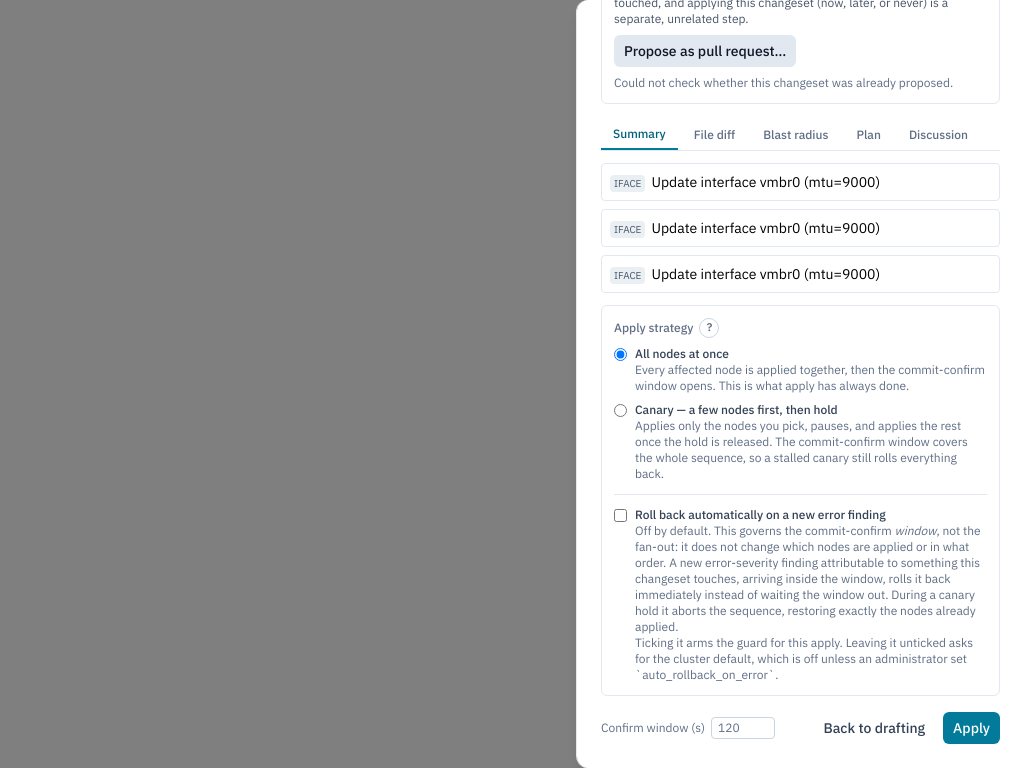
Test: ReviewApplyScreen — apply strategy (T-3005) › blocks Apply when the hold is not shorter than the confirm window
(page scrolled)
Click the radio button labelled "Canary".
click(620, 410)  # box [614, 404, 627, 417]
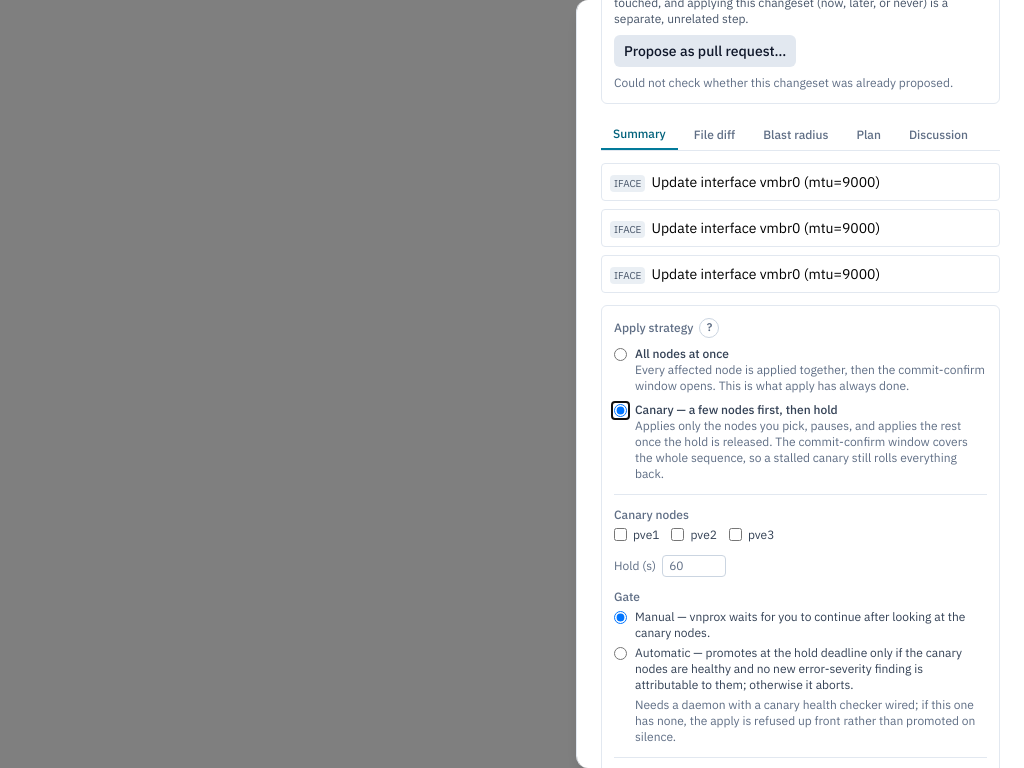
Click the checkbox labelled "pve1".
click(620, 535)  # box [614, 528, 627, 542]
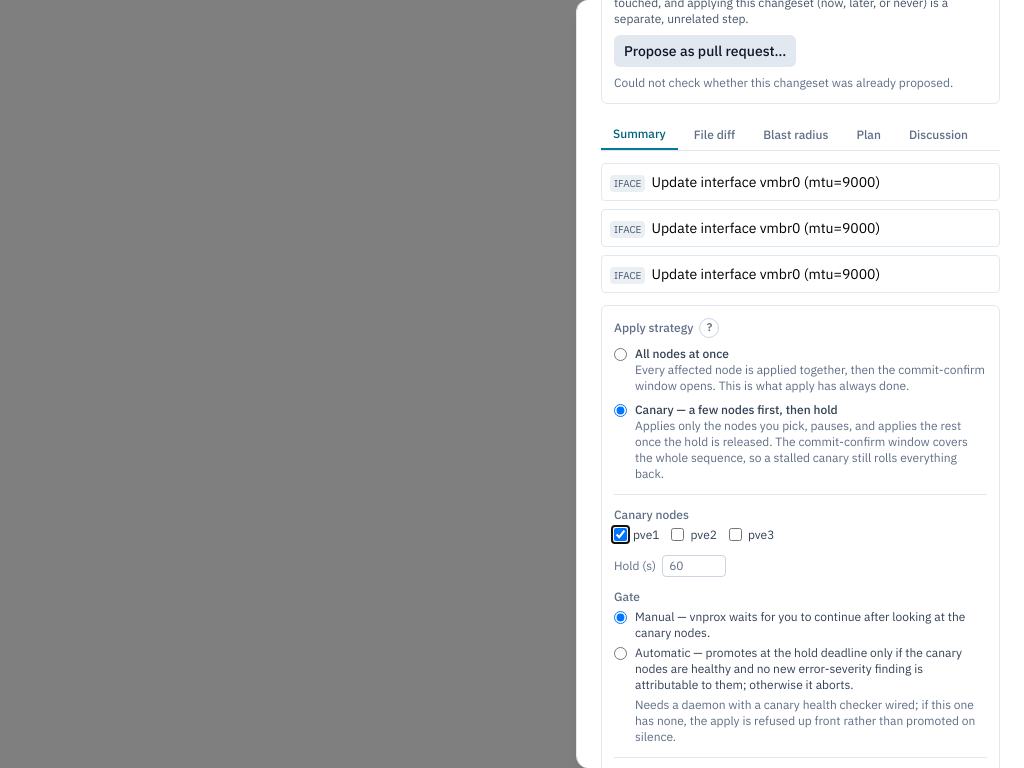
Replace the text in the number field named "canary hold seconds" with "120" at (694, 566), box [662, 555, 726, 577]
(page scrolled)
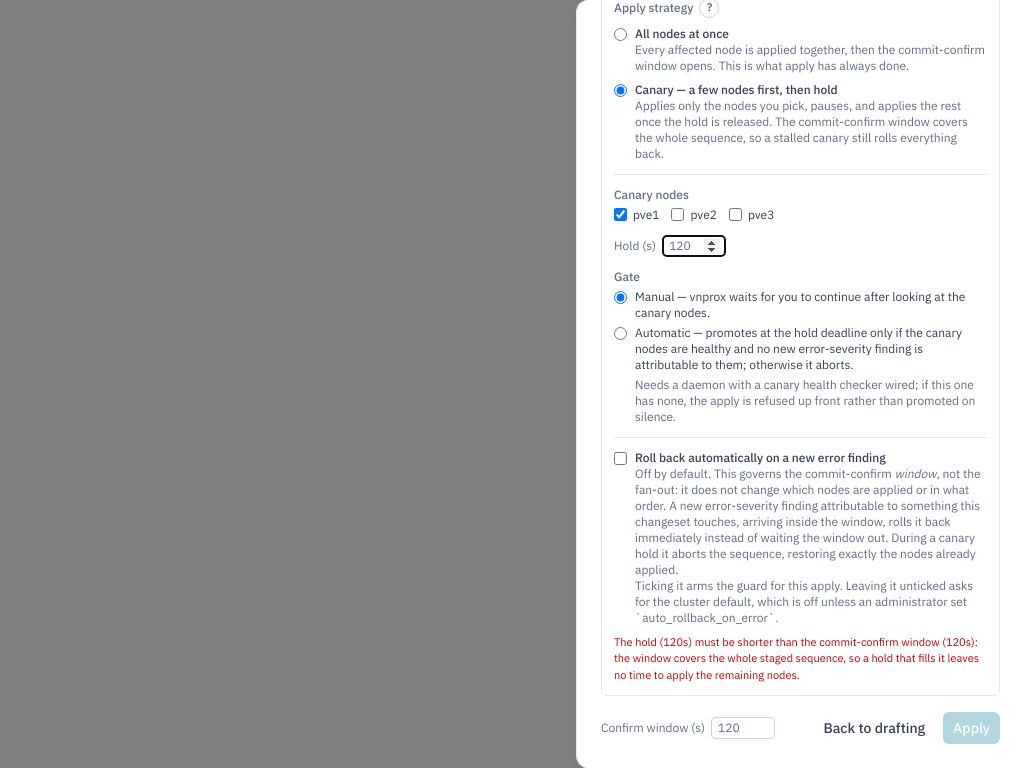
Expected: the message with test id "apply-strategy-error" shows "shorter than the commit-confirm window", [614, 635, 979, 682]
Expected: the button "Apply" is disabled, [943, 712, 1000, 744]
